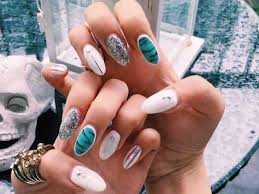nail: (141, 85, 178, 114), (71, 164, 106, 191), (81, 43, 106, 76), (107, 32, 130, 66), (136, 33, 161, 64), (73, 124, 96, 157), (59, 106, 81, 140), (98, 130, 120, 159), (121, 144, 142, 169), (53, 64, 68, 76)
